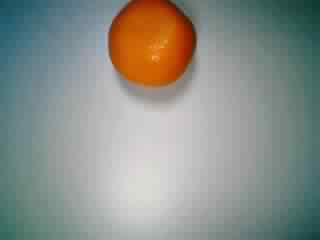orange: (102, 1, 197, 103)
